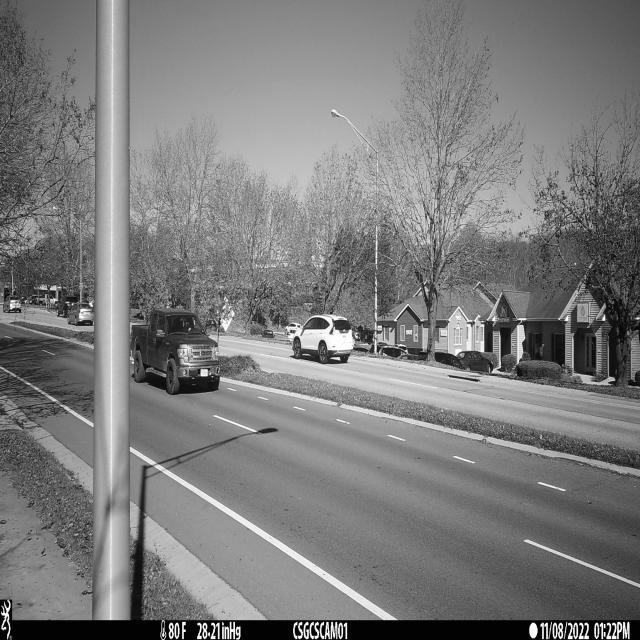Pickup: (130, 309, 222, 396)
